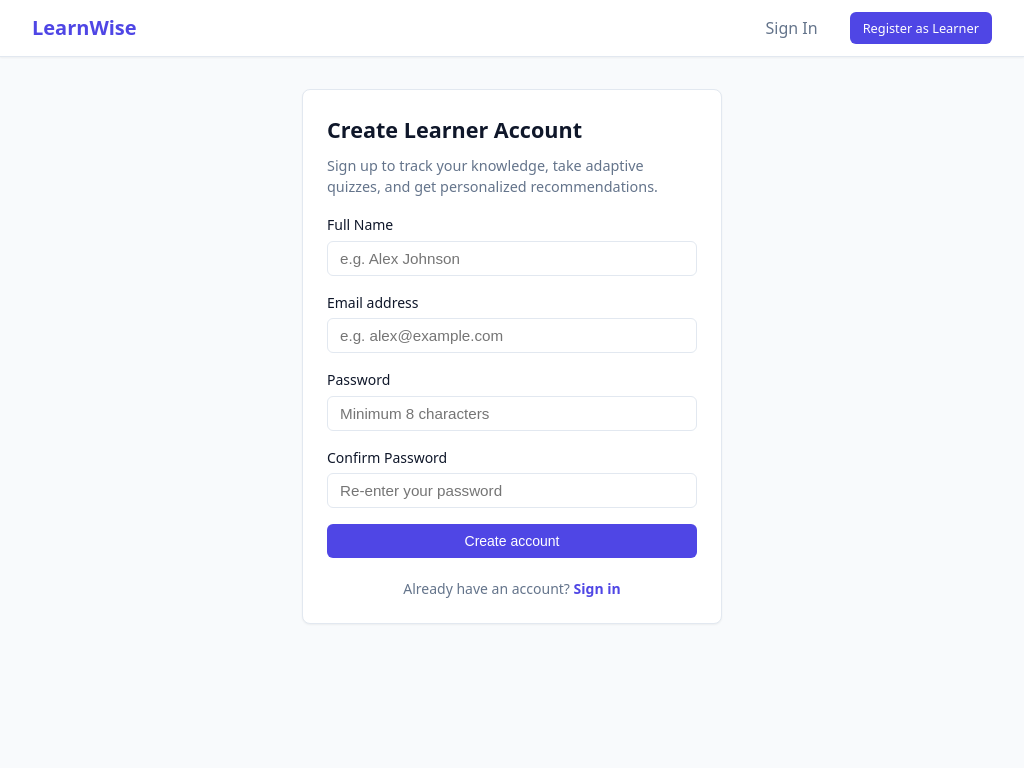
it: Authentication & Route Protection › register validation: shows error when passwords do not match
Type "New Learner" into the field labelled "Full Name".
click(512, 258); type("New Learner")  # box [327,241,697,276]
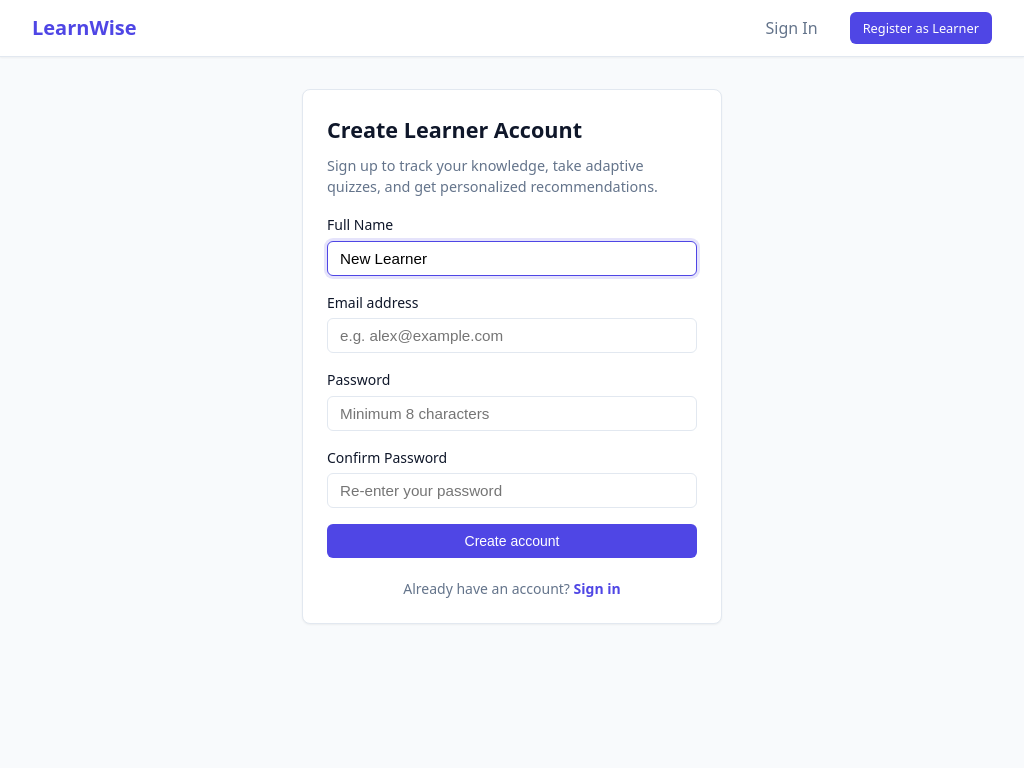
Type "newlearner@example.com" into the field labelled "Email address".
click(512, 336); type("newlearner@example.com")  # box [327,318,697,353]
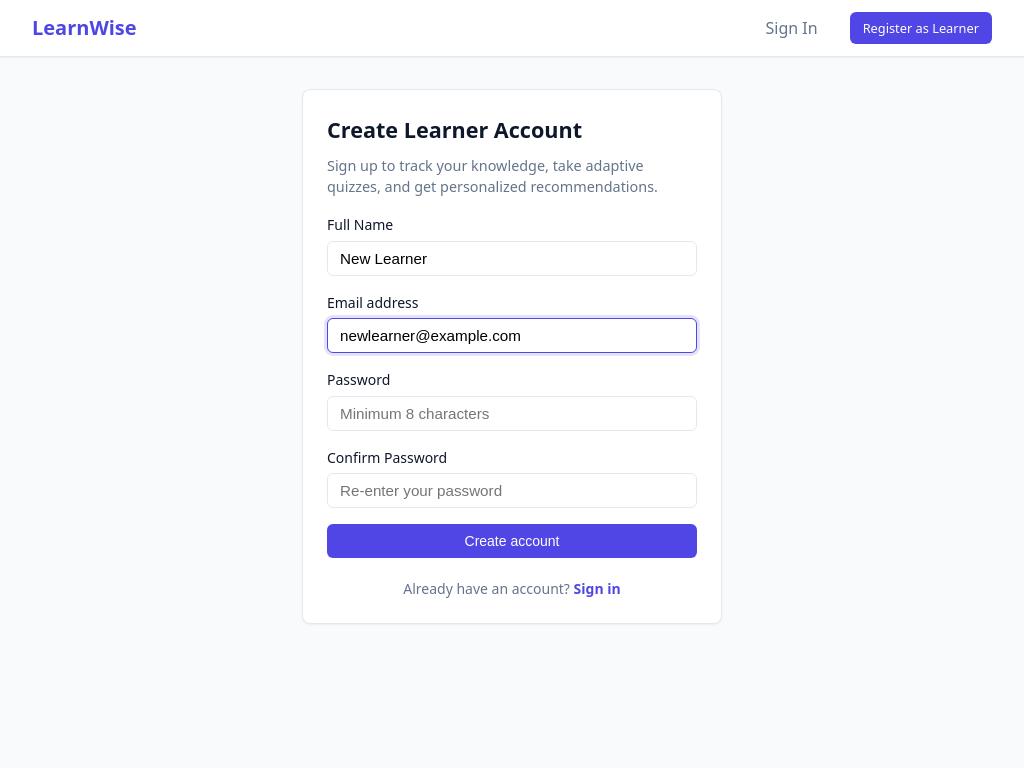
Type "password123" into the password field labelled "Password".
click(512, 413); type("password123")  # box [327,396,697,431]
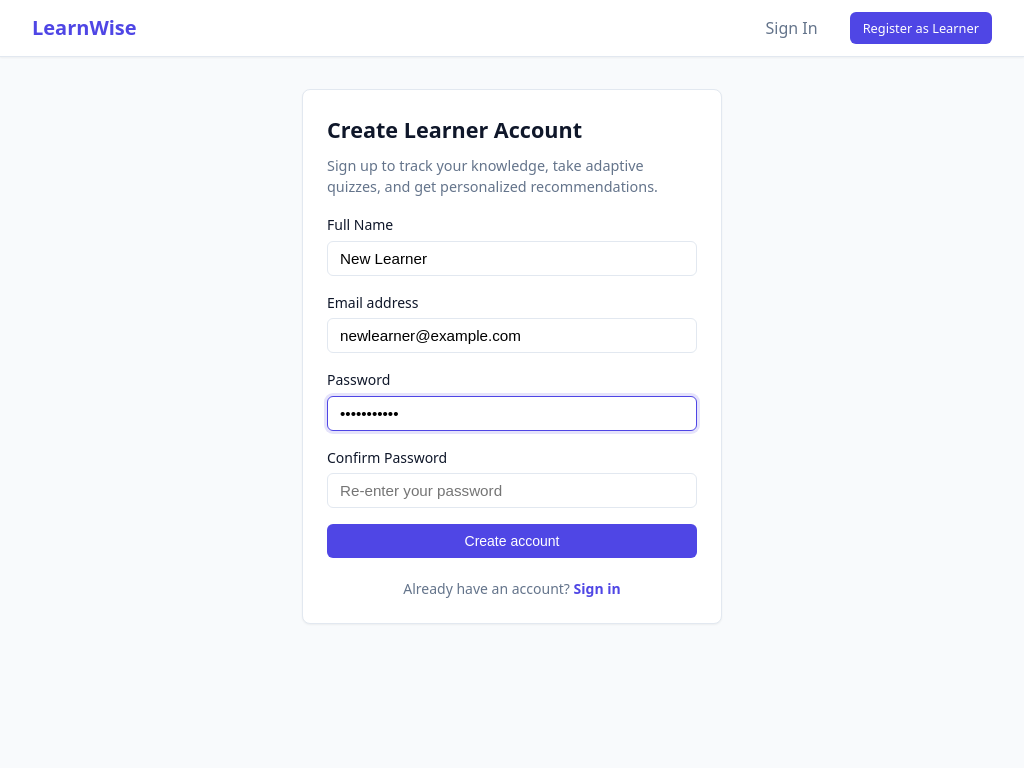
Type "differentpassword" into the password field labelled "Confirm Password".
click(512, 491); type("differentpassword")  # box [327,473,697,508]
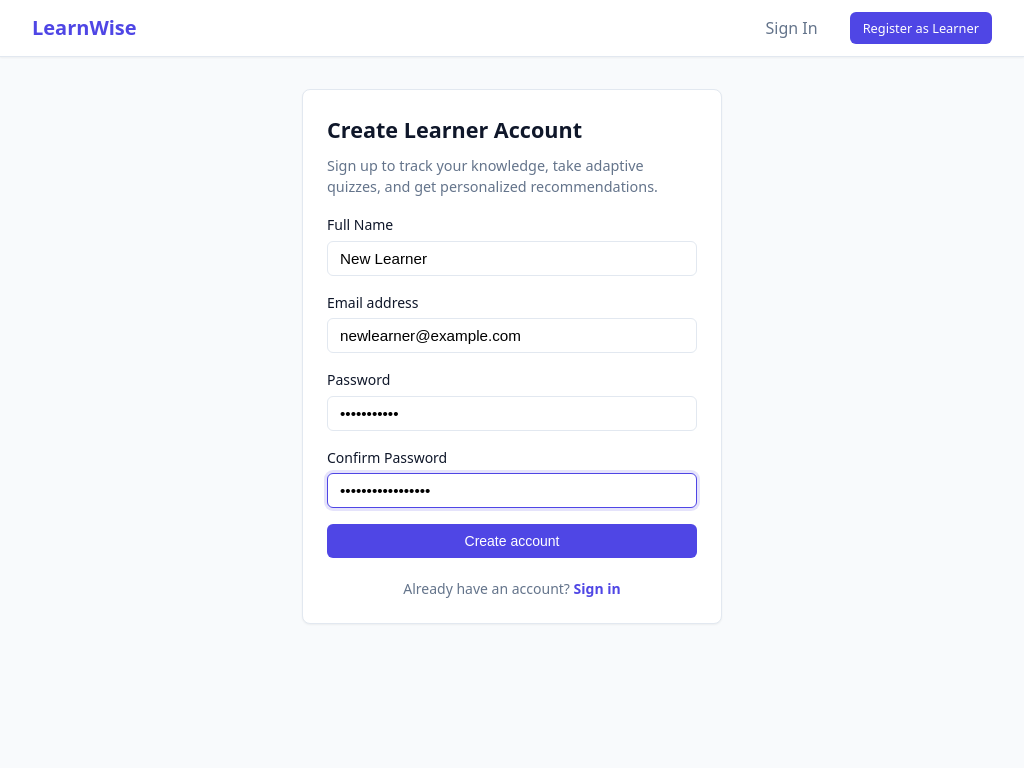
Click the button "Create account".
click(512, 541)  # box [327,524,697,558]
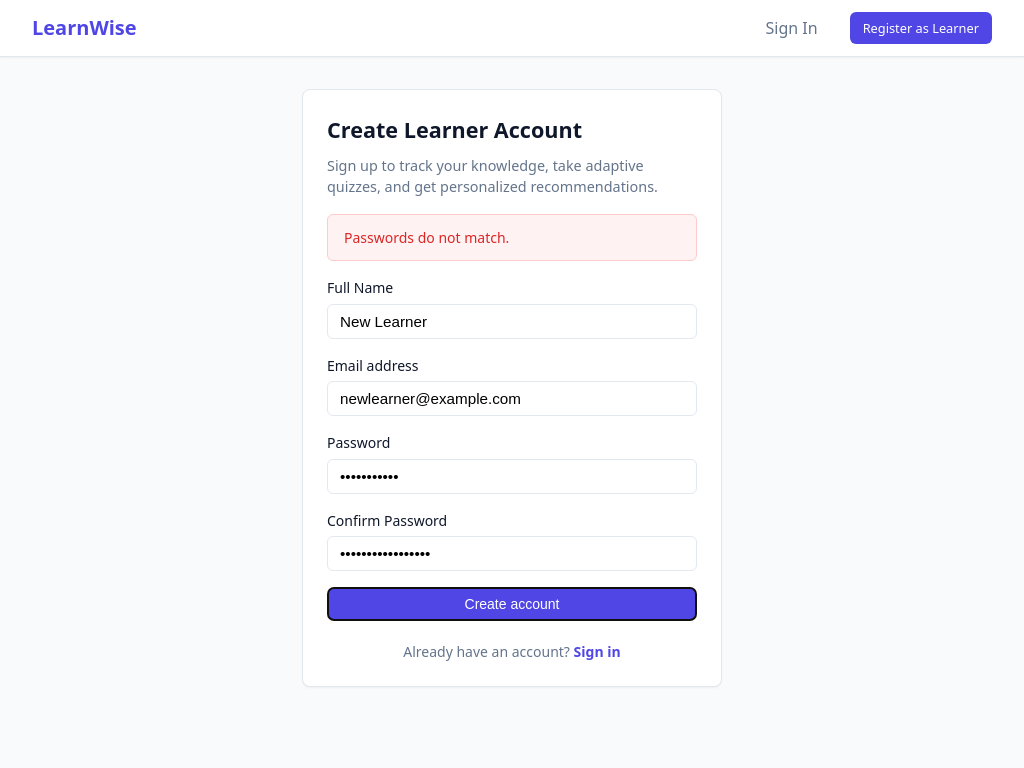
Expected: the message shows "Passwords do not match", [344,228,509,247]
